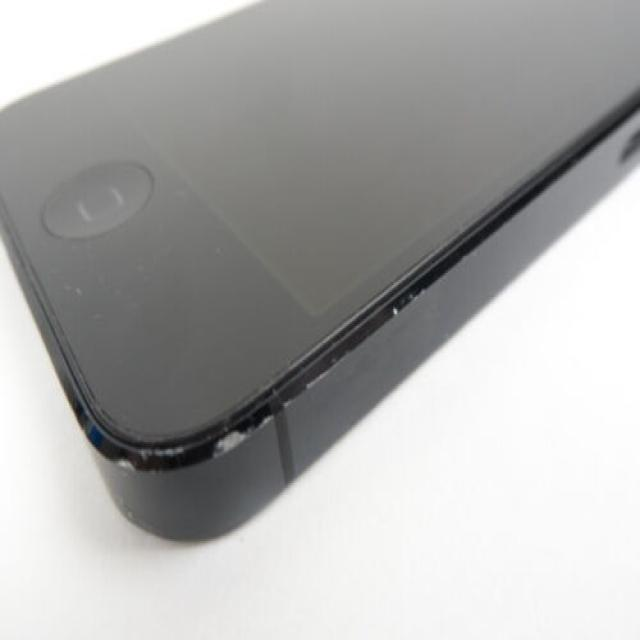Dents: (215, 427, 253, 467), (388, 293, 421, 335), (107, 456, 152, 484)
